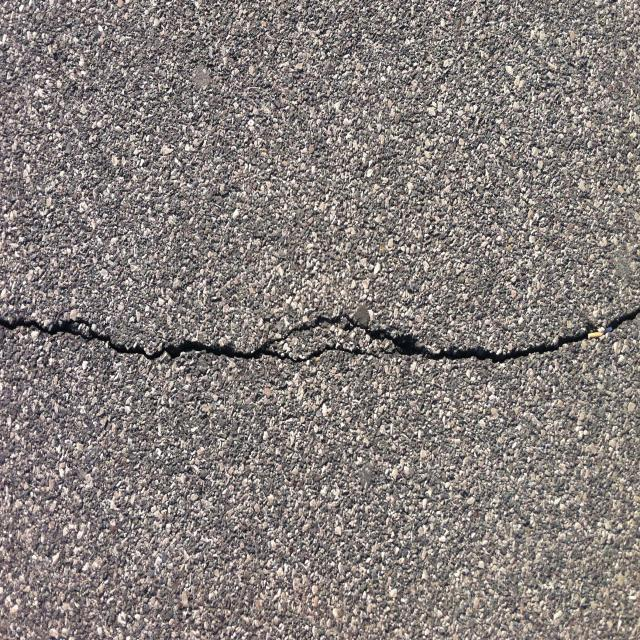Crack: (0, 305, 640, 365)
